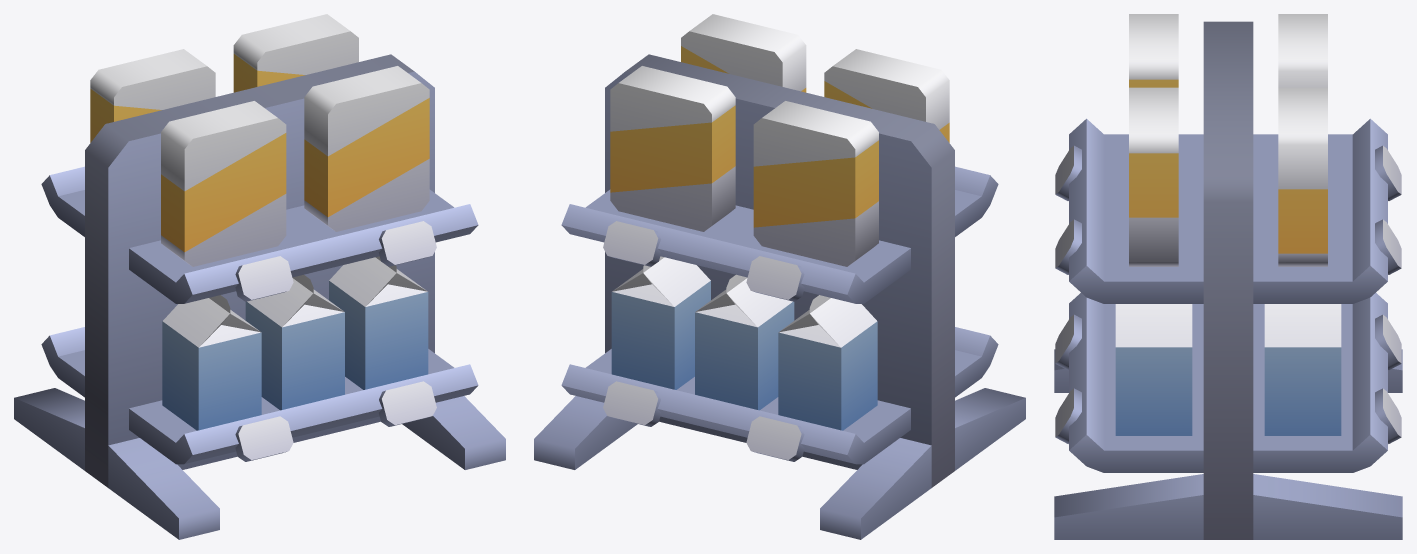
Rendered from shelf-boxes.fbx.
3 views of the same model, side by side, from view 1: azimuth 30°, elevation 25°; view 2: azimuth 150°, elevation 25°; view 3: azimuth 270°, elevation 25° (orthographic). The views are drawn at different scales.
Parts seen in each view (by area): view 1: shelf-boxes, box_3, box_2, carton_2, carton, carton_1, box, box_1; view 2: shelf-boxes, box, box_1, carton_3, carton_4, carton_5, box_3, box_2; view 3: shelf-boxes, carton, carton_4, box_1, box_2, box, box_3.
Part boxes in pixels (x1,y1,x2,y2): shelf-boxes: [14, 54, 505, 539]; box_3: [161, 101, 286, 266]; box_2: [304, 66, 429, 231]; carton_2: [162, 295, 261, 430]; carton: [329, 256, 428, 389]; carton_1: [245, 274, 344, 410]; box: [90, 49, 215, 142]; box_1: [233, 14, 358, 92]; shelf-boxes: [534, 54, 1025, 539]; box: [753, 101, 878, 266]; box_1: [610, 66, 735, 231]; carton_3: [778, 295, 877, 430]; carton_4: [611, 256, 710, 389]; carton_5: [695, 274, 794, 410]; box_3: [824, 49, 949, 142]; box_2: [681, 14, 806, 92]; shelf-boxes: [1054, 21, 1402, 539]; carton: [1115, 304, 1192, 435]; carton_4: [1264, 304, 1341, 435]; box_1: [1278, 87, 1327, 266]; box_2: [1129, 87, 1178, 266]; box: [1278, 14, 1327, 87]; box_3: [1129, 14, 1178, 87].
Bounding box in the file's own units: 80 × 85 × 70.
1 material, 1 textured.
